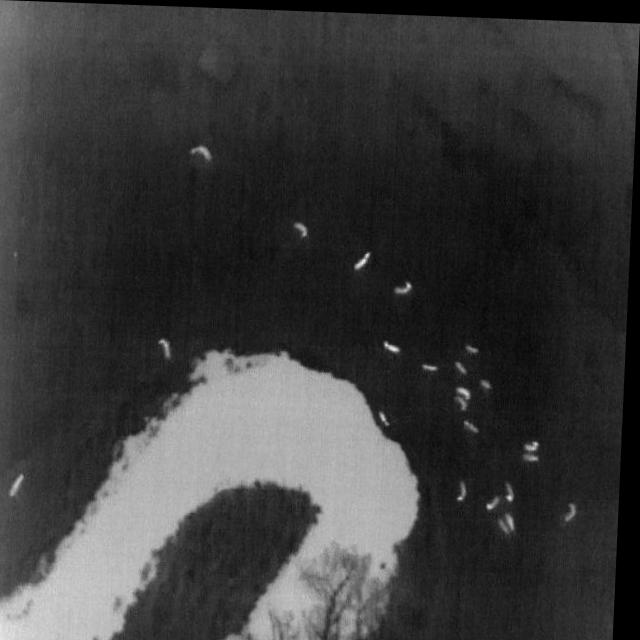deer: (12, 473, 29, 498), (356, 248, 373, 269), (192, 143, 213, 159), (160, 336, 174, 358), (460, 476, 472, 498), (508, 508, 521, 528), (295, 220, 311, 236), (569, 498, 582, 517), (457, 392, 472, 408), (397, 278, 415, 291), (508, 477, 519, 498), (386, 338, 405, 350), (490, 492, 505, 507), (458, 383, 475, 396), (466, 417, 483, 430), (527, 436, 545, 448), (502, 515, 516, 530), (457, 357, 470, 371), (382, 408, 394, 423), (526, 449, 544, 458), (468, 341, 481, 351), (484, 375, 496, 385), (425, 361, 441, 367)
